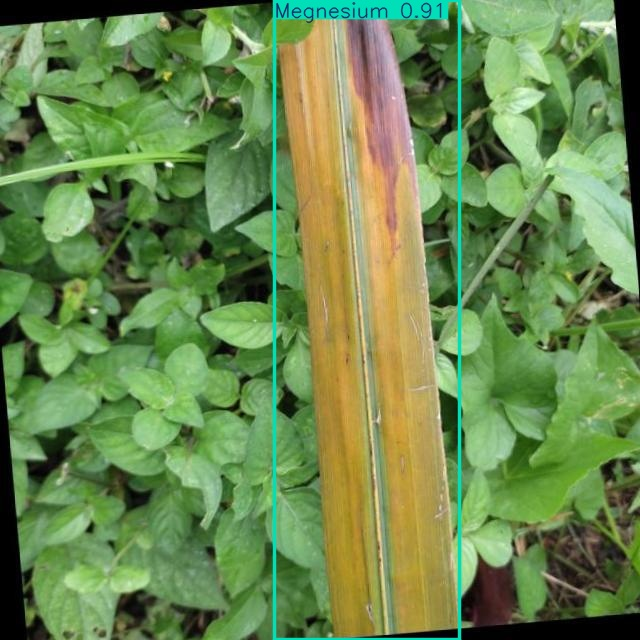Megnesium: (275, 0, 459, 640)
